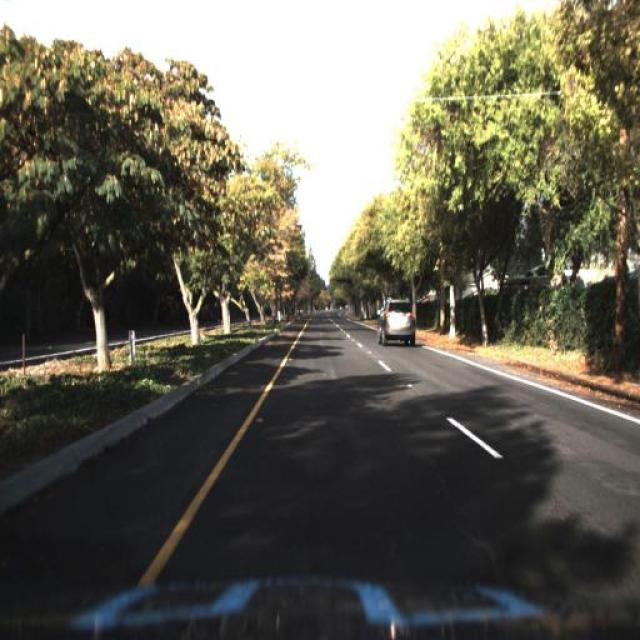car: (377, 298, 417, 348)
